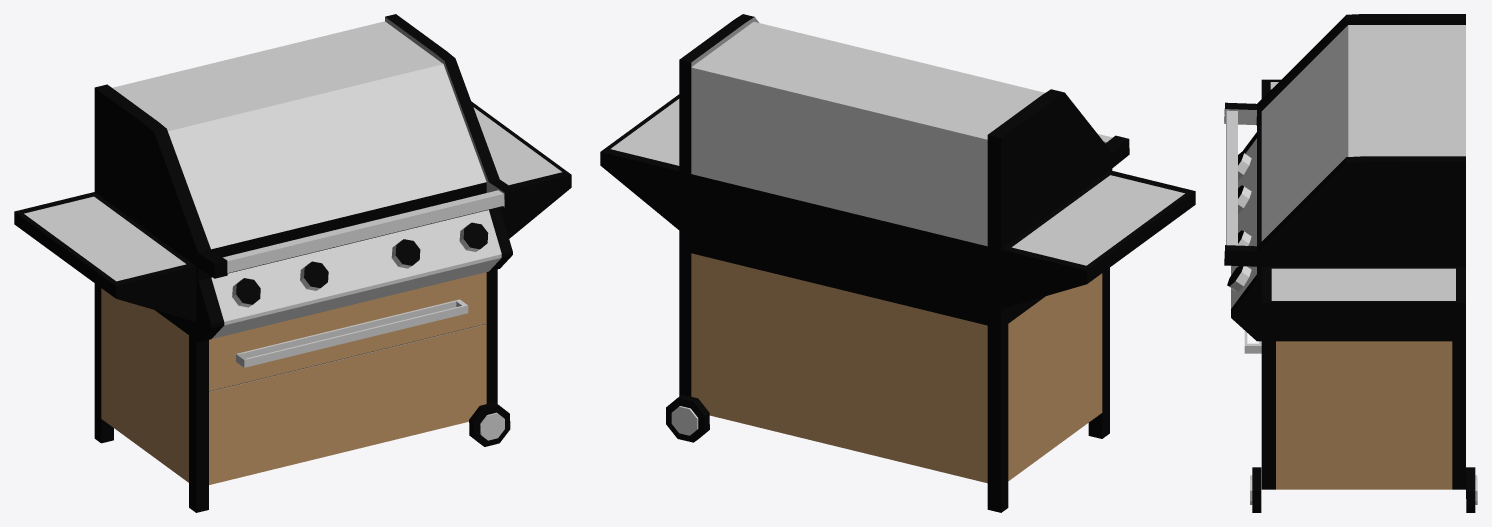
The model's file is bbq01.fbx.
3 views of the same model, side by side, from view 1: azimuth 30°, elevation 25°; view 2: azimuth 150°, elevation 25°; view 3: azimuth 270°, elevation 25° (orthographic). The views are drawn at different scales.
Parts seen in each view (by area): view 1: pCube2; view 2: pCube2; view 3: pCube2.
Boxes of the visible parts, x1,y1,x2,y2 form: pCube2: [14, 14, 571, 512]; pCube2: [600, 14, 1195, 512]; pCube2: [1224, 14, 1477, 512].
Size of the model in its own units: 12.62 by 9.29 by 6.04.
